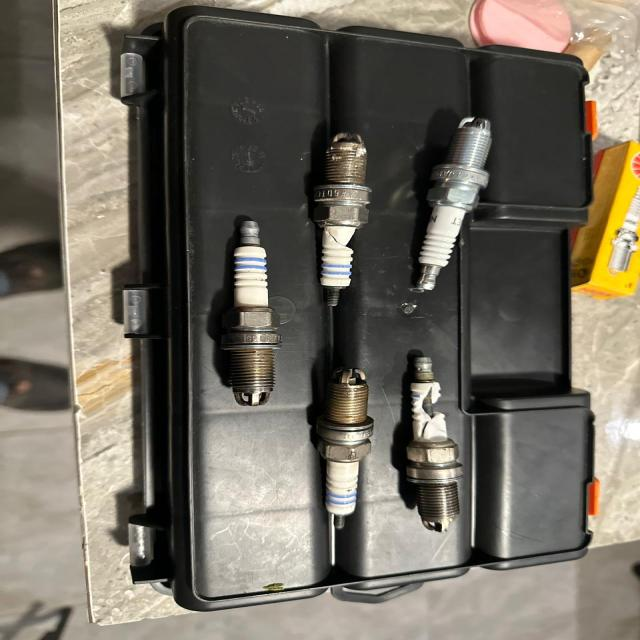damaged_spark-plug: (388, 349, 472, 542), (310, 124, 379, 310)
spark-plug: (405, 106, 504, 299), (305, 366, 381, 532), (223, 212, 285, 410)
